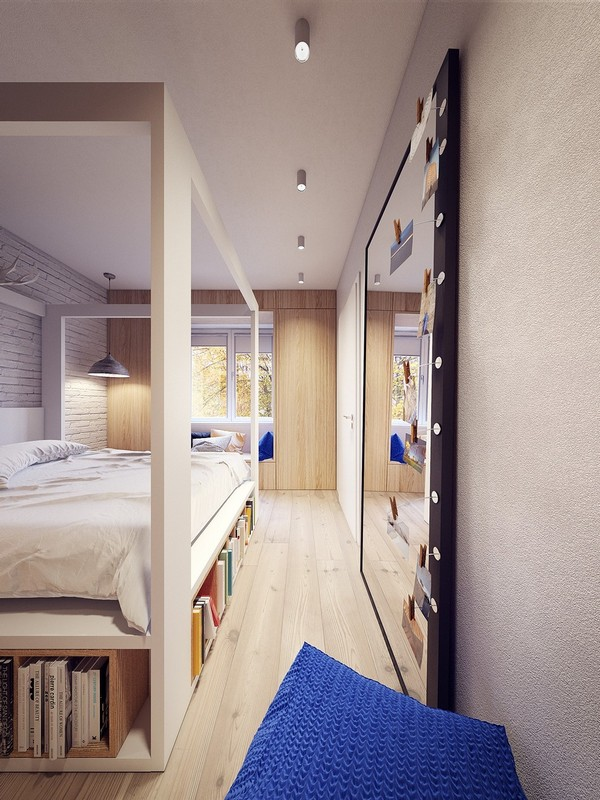bed: (2, 80, 260, 784)
